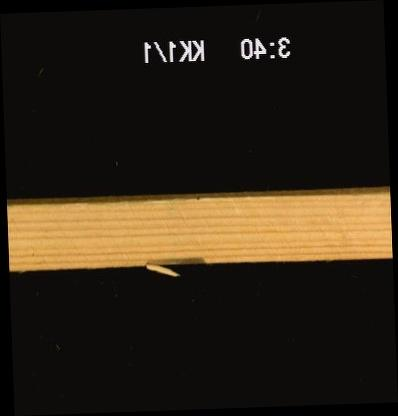wave: (140, 251, 207, 263)
